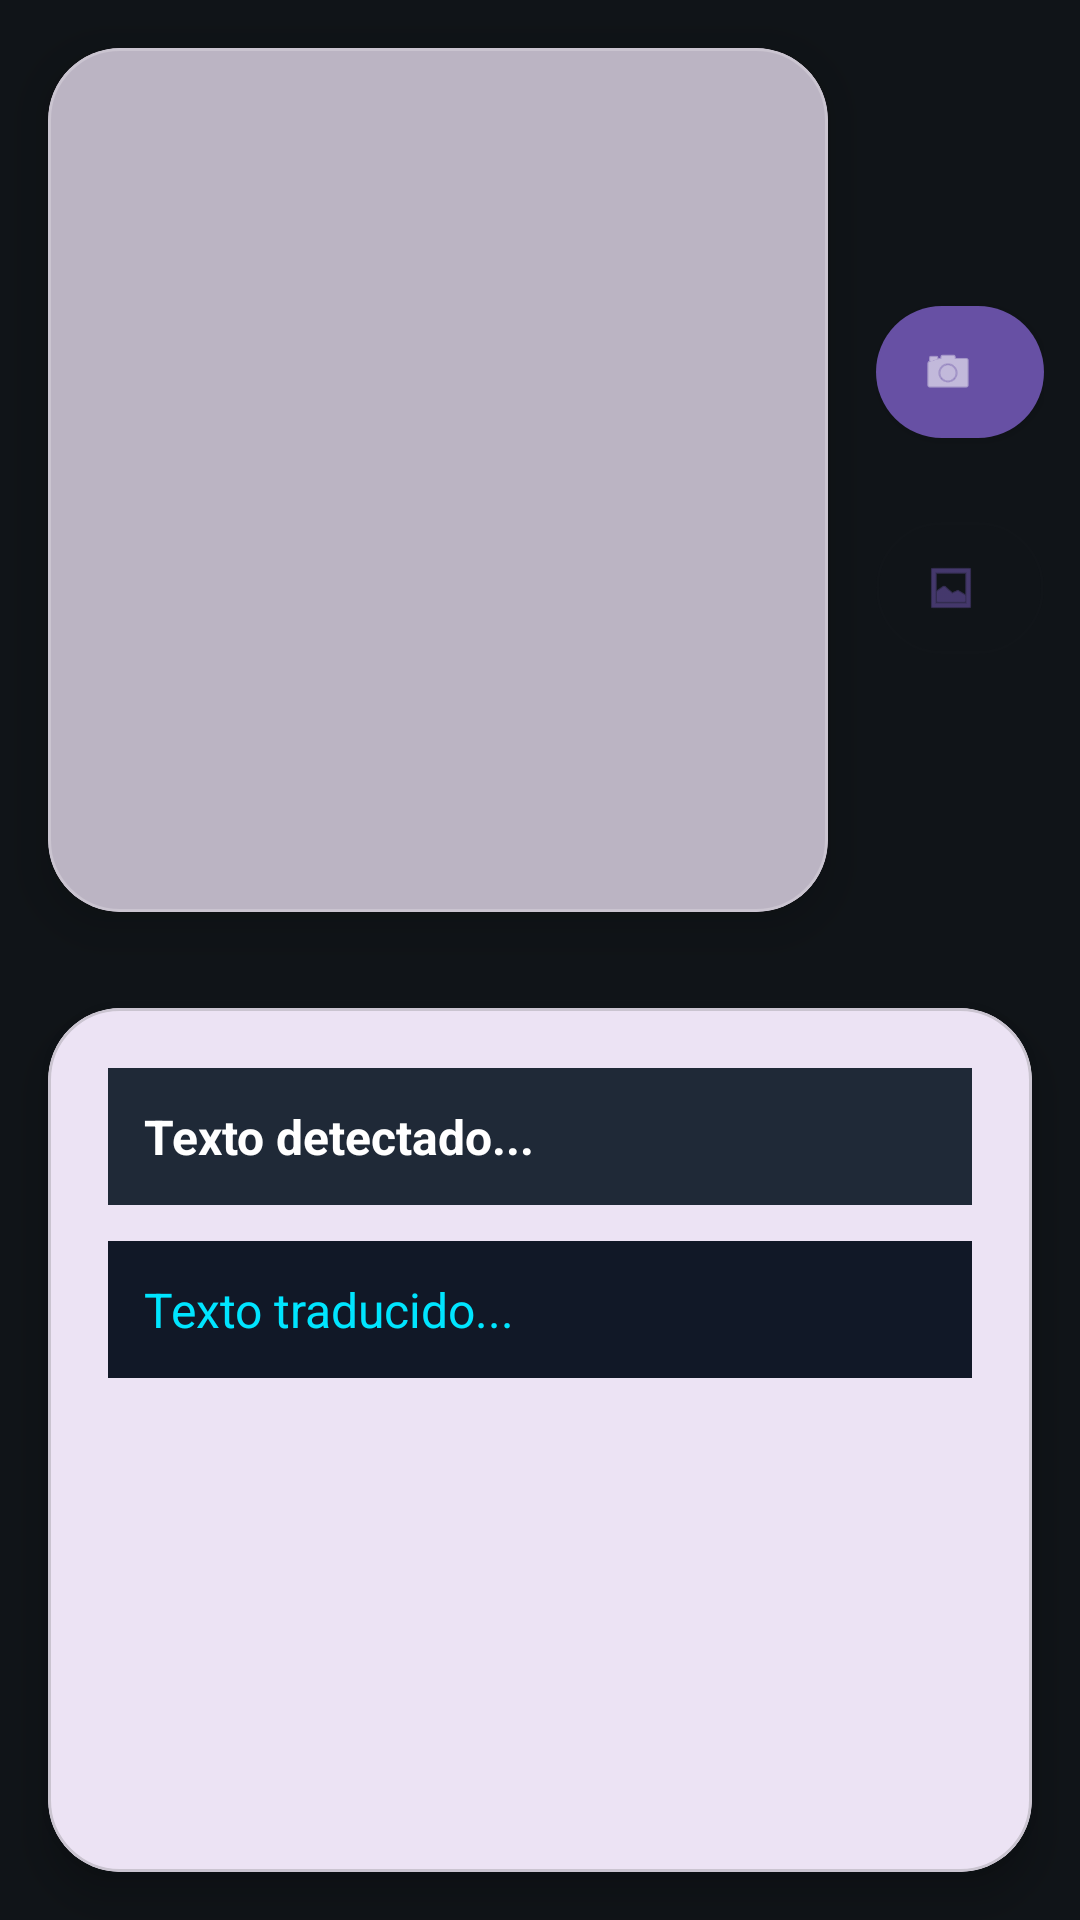

Screen size 1080px x 1920px. Icon name, then its center in pixels as (x,y):
camera: (960,372)
gallery: (951,588)
